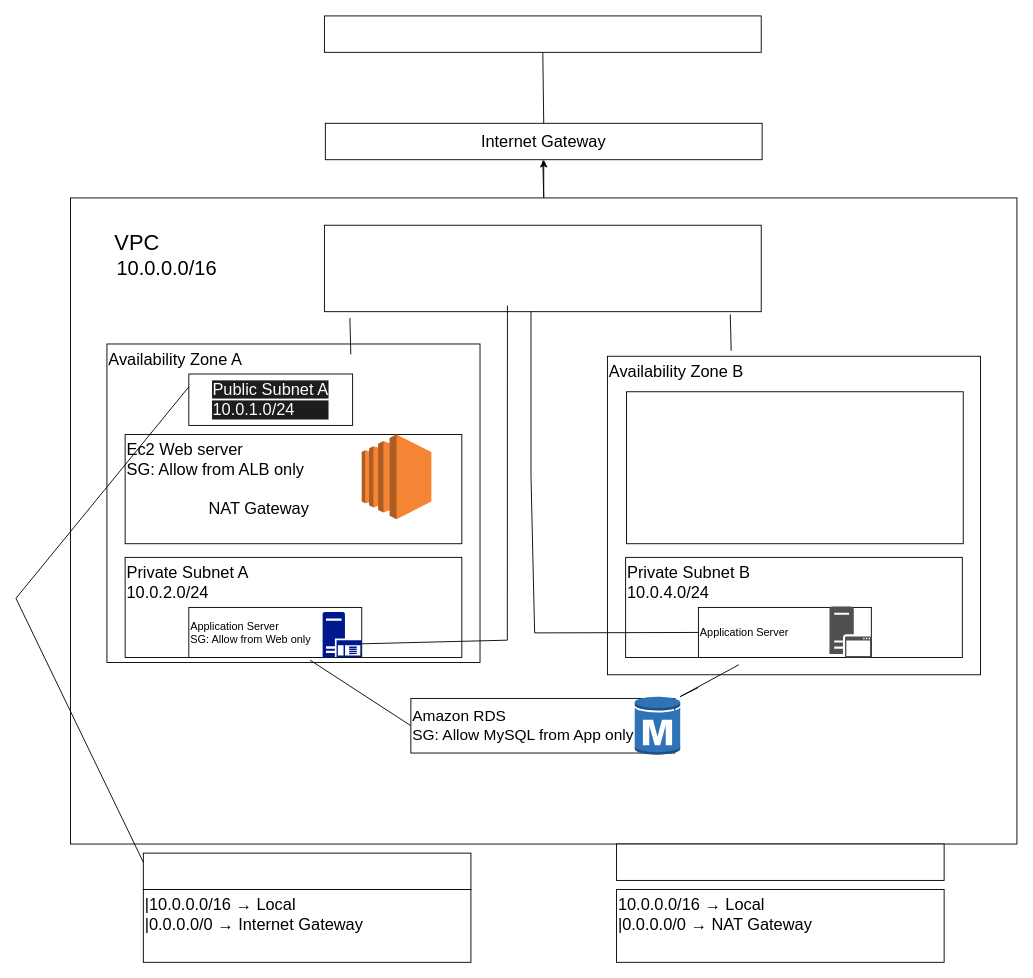
This 1033x978 diagram has some shape labels left out. The centre of each missing label's shape, as x and y in pixels:
"Application Load Balancer SG: Allow 80,443" goes at (542,268).
"Internet" goes at (542,33).
"Private Route Table" goes at (780,861).
"Public Route Table" goes at (306,871).
"Public Subnet B 10.0.3.0/24 Ec2 Web Server SG: Allow from ALB only" goes at (794,467).
